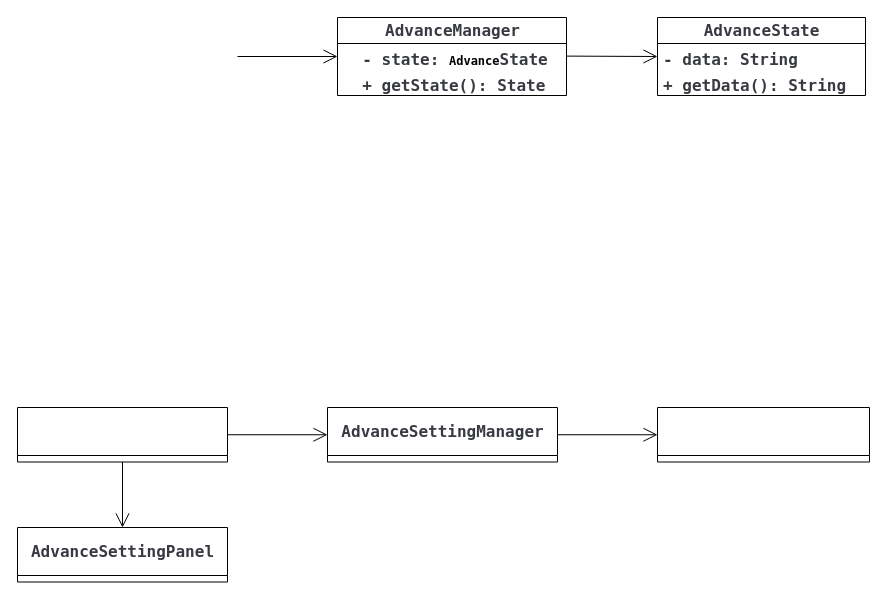
This 887x600 diagram has some shape labels left out. The shapes that lost their labels are listed below. From the top down, each one's centre as x and y in pixels, then its label:
At point 122,434: "AdvanceSettingButton".
At point 763,434: "AdvanceSettingState".
